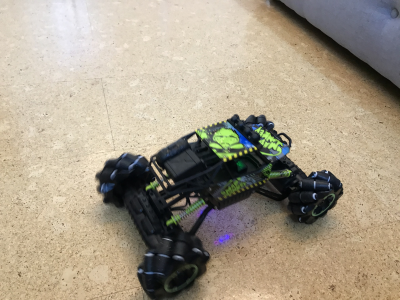remote control car: (95, 109, 347, 300)
